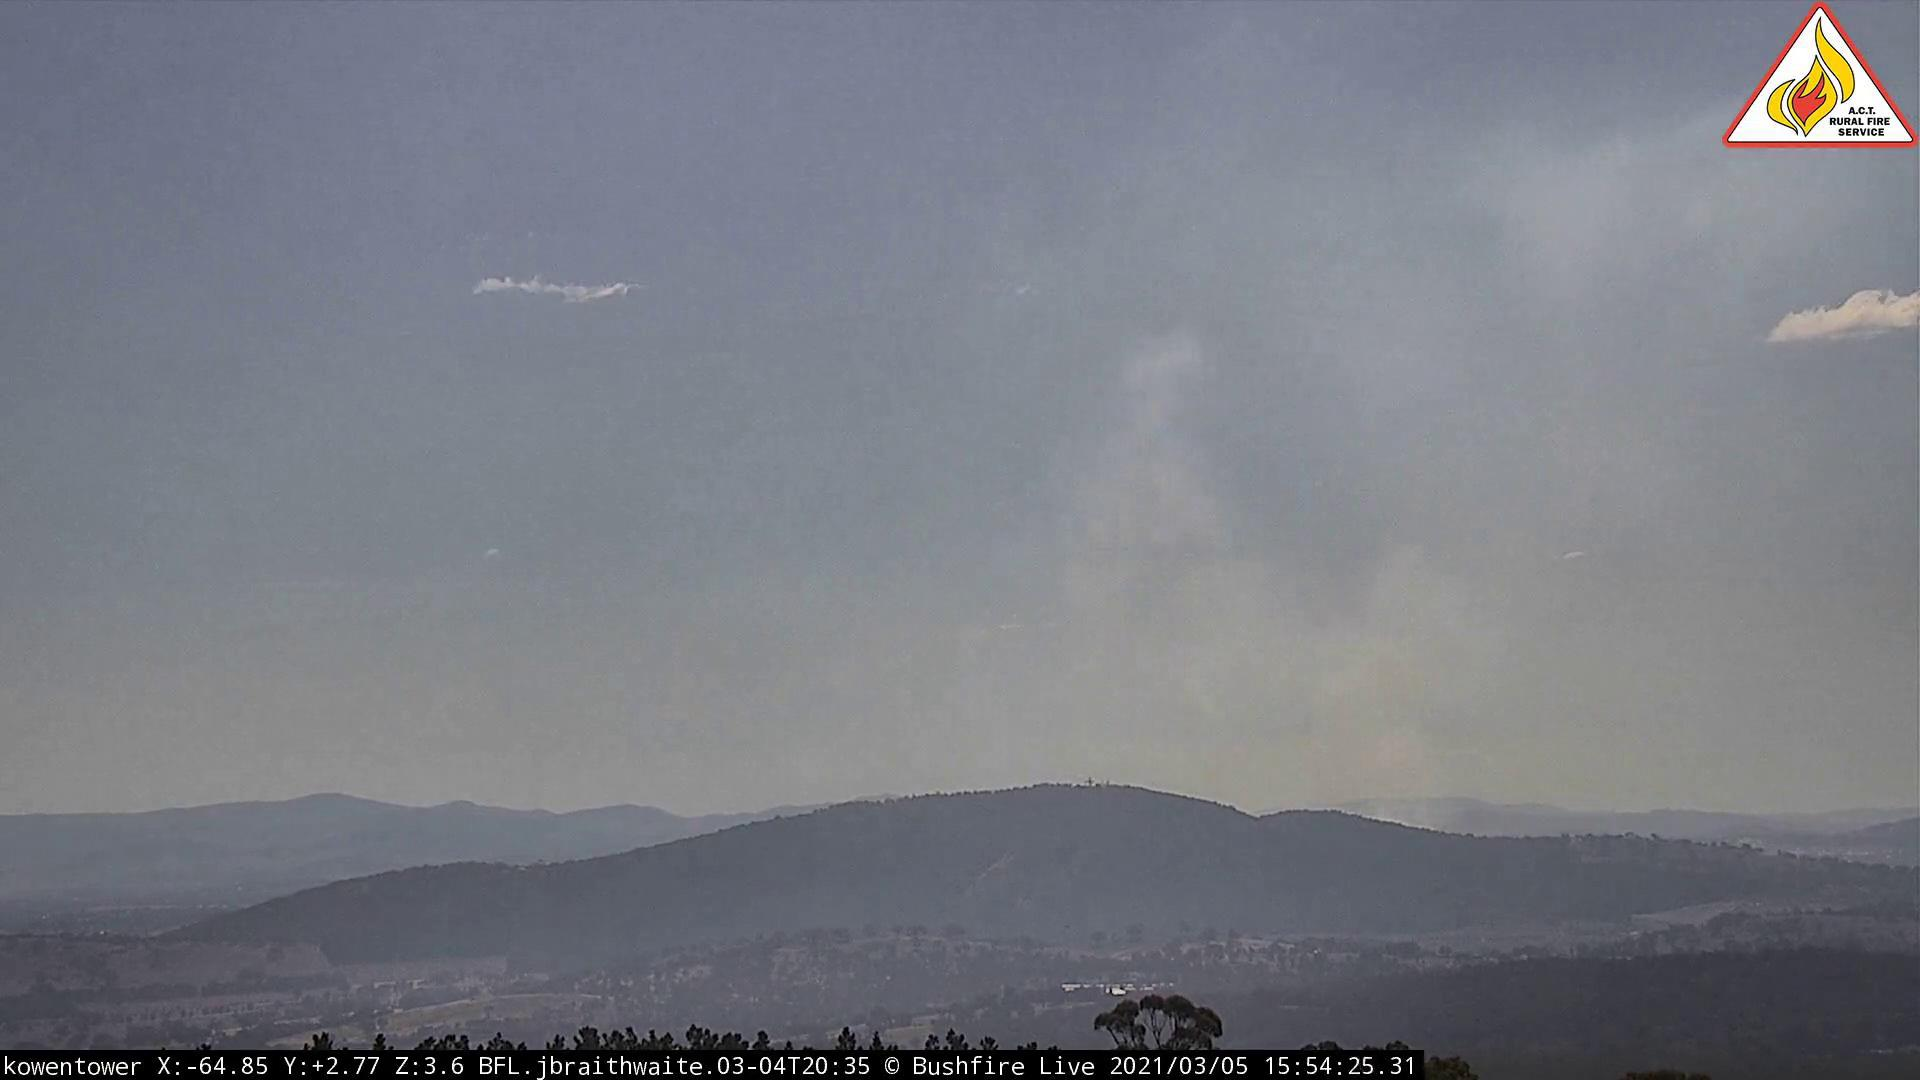Smoke: (903, 165, 1866, 833)
